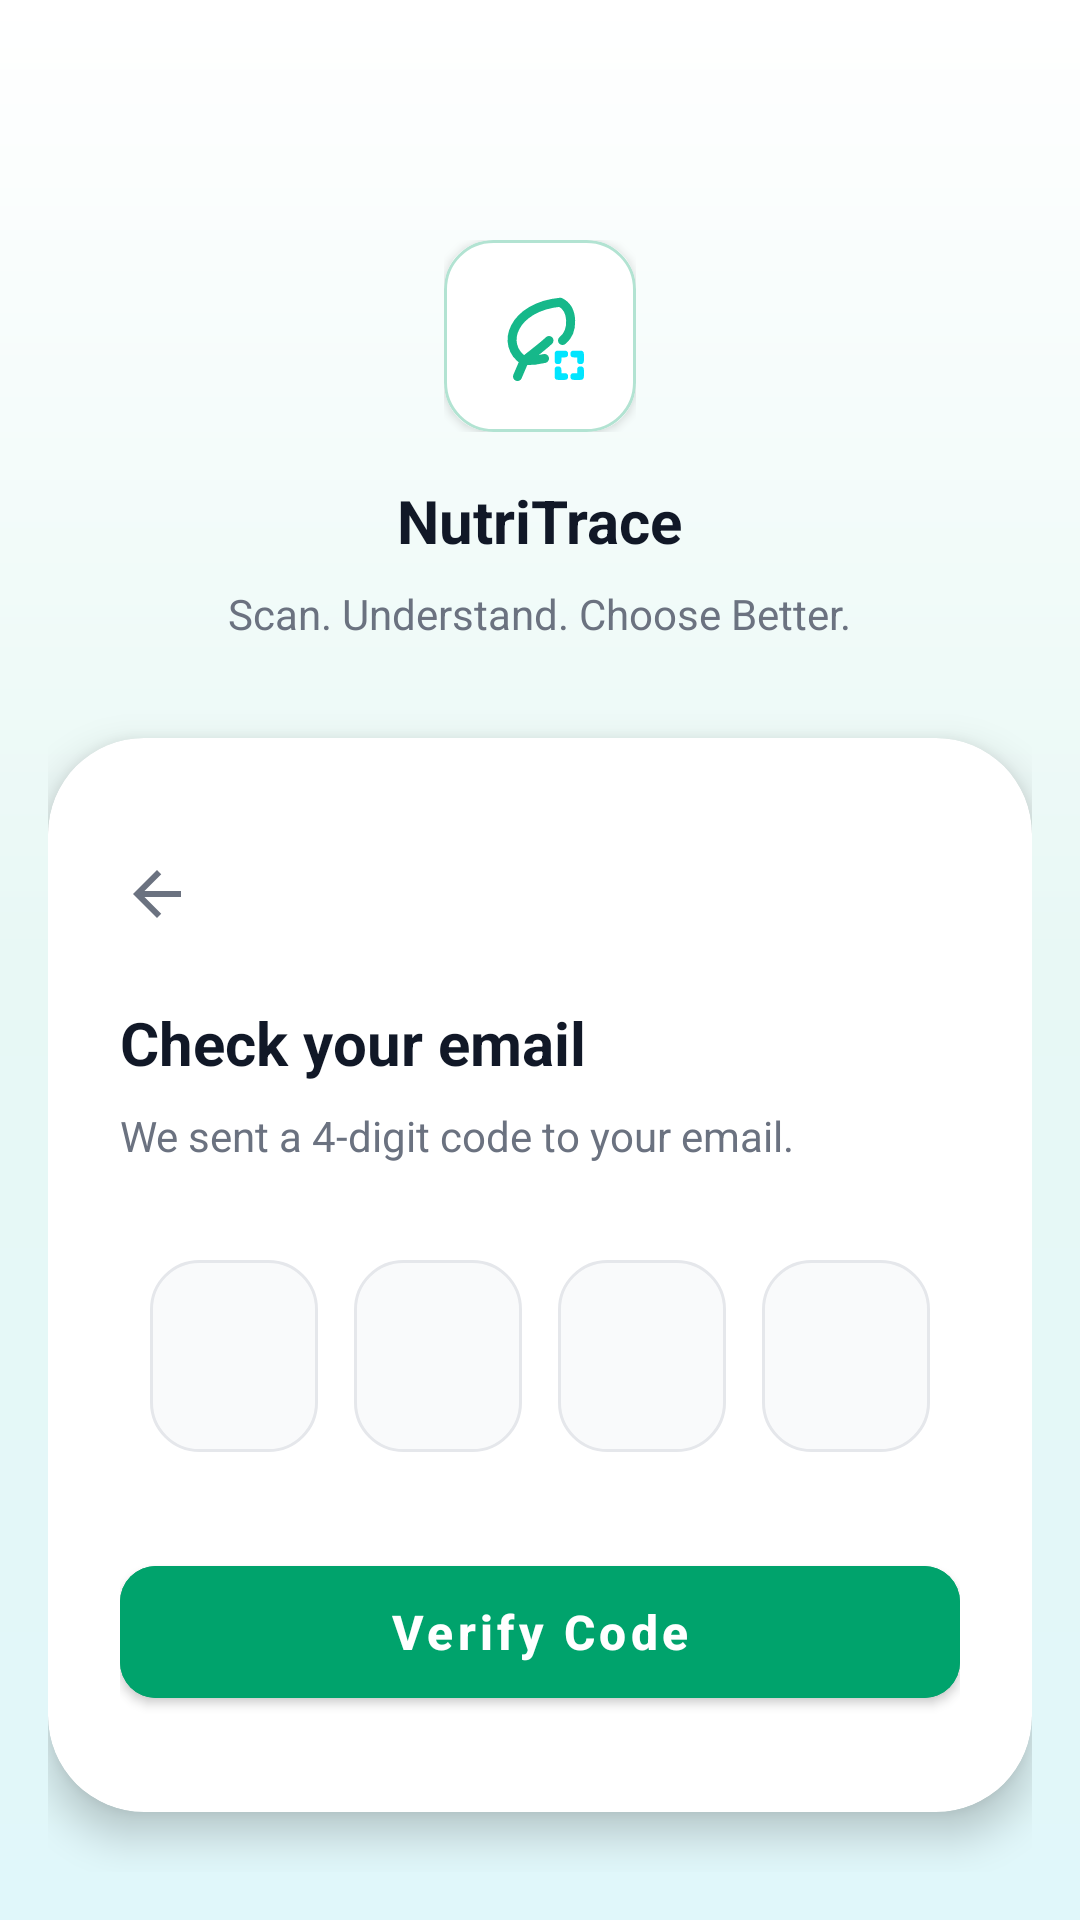

Icon click points for this 1080 × 1920 phone screenshot, format (x,y):
arrow back: (157,894)
eco: (545,339)
